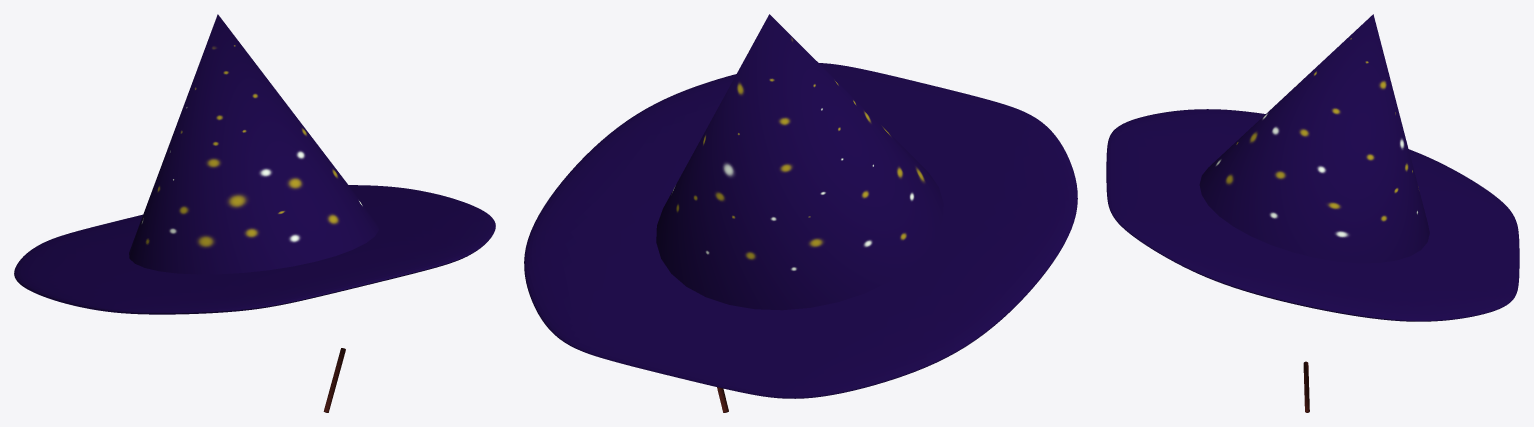
The model's file is WizardImag.fbx.
3 renders of one model, left to right at view 1: azimuth 30°, elevation 25°; view 2: azimuth 150°, elevation 25°; view 3: azimuth 270°, elevation 25°, orthographic. The views are drawn at different scales.
Parts seen in each view (by area): view 1: WizardHat; view 2: WizardHat; view 3: WizardHat.
Boxes of the visible parts, bbox=[...] form: WizardHat: bbox=[14, 14, 495, 314]; WizardHat: bbox=[524, 14, 1077, 398]; WizardHat: bbox=[1106, 14, 1519, 321].
Size of the model in its own units: 501 by 463 by 475.
Materials: 2 (1 with a texture image).
